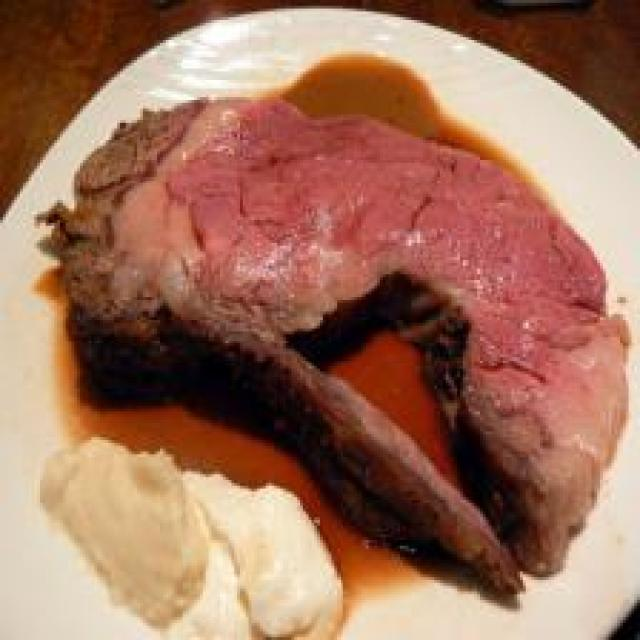Rib: (54, 84, 640, 527)
